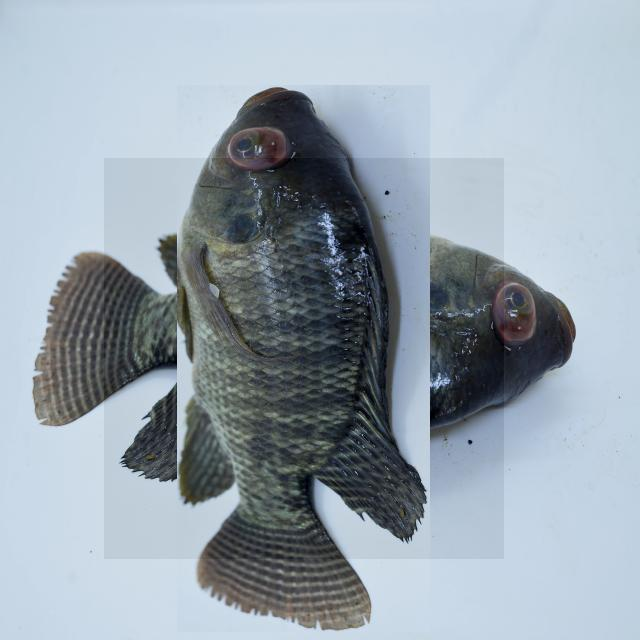streptococcus Disease: (104, 158, 504, 559)
